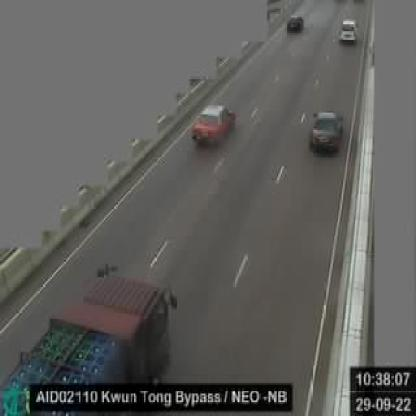Car: (186, 96, 240, 154), (298, 104, 347, 166), (330, 10, 362, 47), (283, 5, 307, 35)
Truck: (0, 257, 187, 414)
